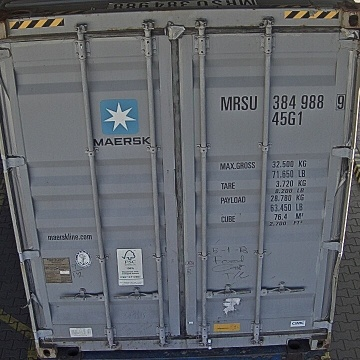serial_id: (221, 94, 346, 109)
